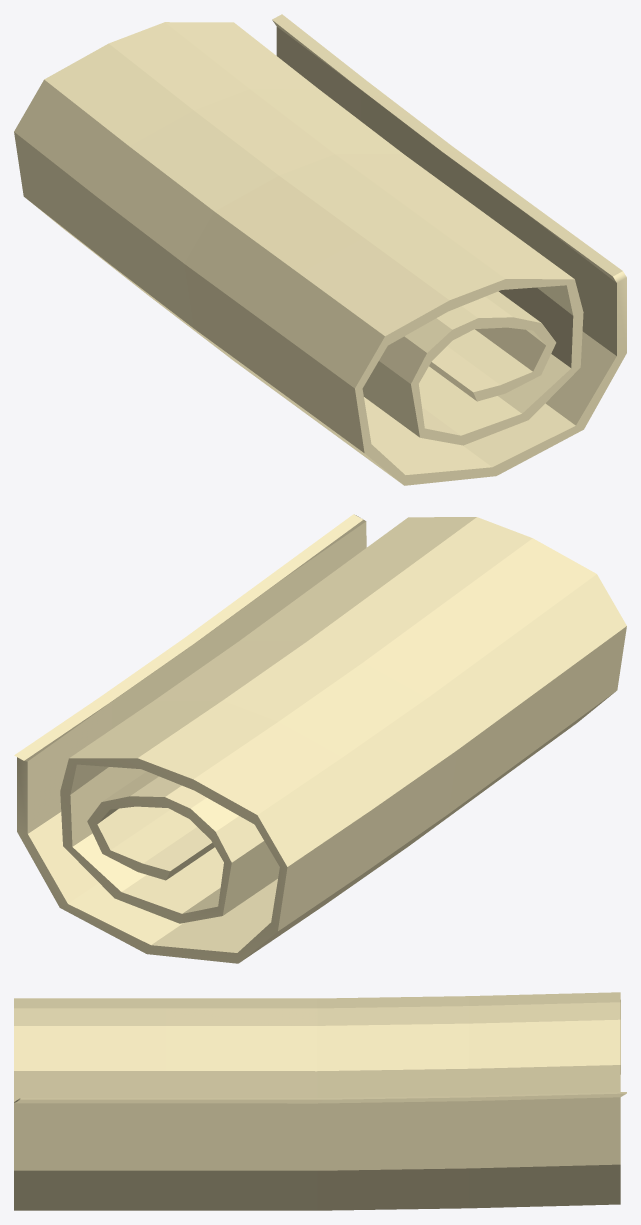
File: PaperClosed.fbx
3 renders of one model, top to bottom at view 1: azimuth 30°, elevation 25°; view 2: azimuth 150°, elevation 25°; view 3: azimuth 270°, elevation 25°, orthographic. The views are drawn at different scales.
Visible parts, largest first — view 1: PaperClosed; view 2: PaperClosed; view 3: PaperClosed.
Part boxes in pixels (x1=…): PaperClosed: x1=14, y1=14, x2=626, y2=485; PaperClosed: x1=14, y1=514, x2=626, y2=963; PaperClosed: x1=14, y1=992, x2=626, y2=1210.
Size of the model in its own units: 0.8783 by 0.6224 by 1.93.
